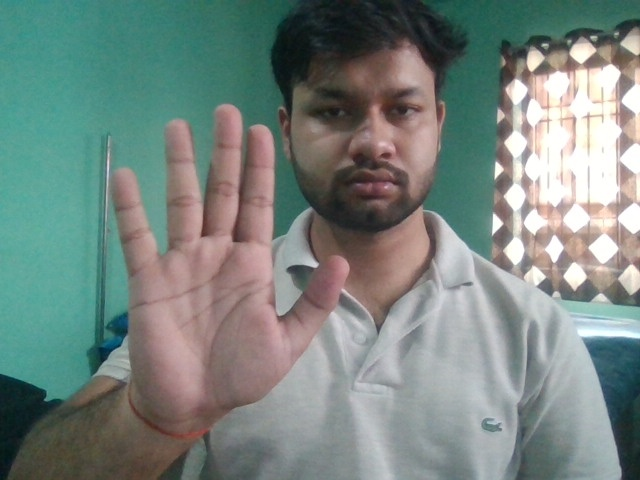Hello: (107, 101, 350, 412)
